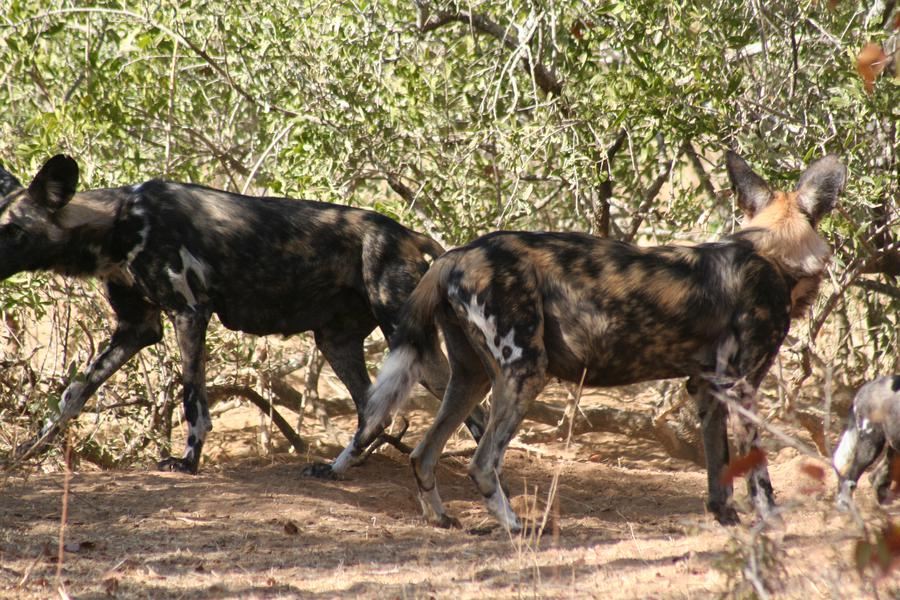wilddog: (432, 162, 841, 422), (5, 161, 383, 320)
